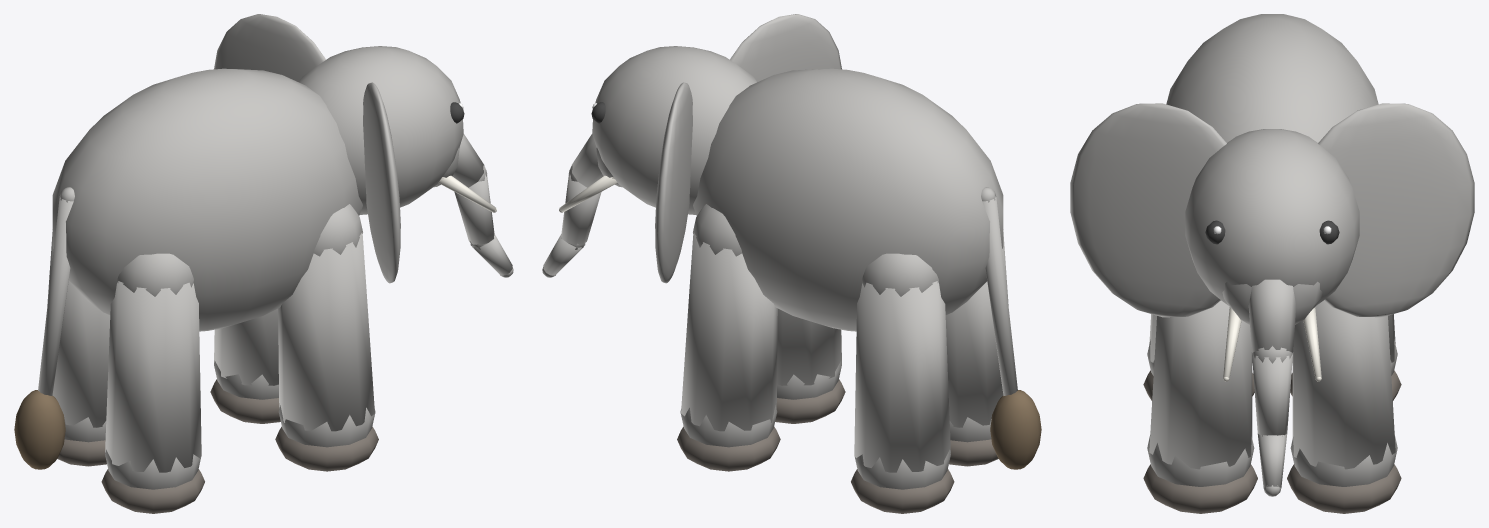
File: african-elephant.glb
The picture shows the model from 3 angles, left to right: view 1: azimuth 30°, elevation 25°; view 2: azimuth 150°, elevation 25°; view 3: azimuth 270°, elevation 25°; orthographic projection. The views are drawn at different scales.
Visible parts, largest first — view 1: e, e.013, e.031, e.021; view 2: e, e.013, e.031, e.021; view 3: e.013, e, e.021.
Part boxes in pixels (x1,y1,x2,y2): e: (47, 68, 378, 513); e.013: (214, 14, 496, 283); e.031: (14, 187, 74, 469); e.021: (452, 134, 513, 277); e: (677, 68, 1008, 513); e.013: (559, 14, 841, 283); e.031: (981, 187, 1041, 469); e.021: (542, 134, 603, 277); e.013: (1070, 103, 1474, 381); e: (1143, 14, 1401, 513); e.021: (1248, 279, 1296, 496).
Bounding box in the file's own units: 2.64 × 1.95 × 1.69.
